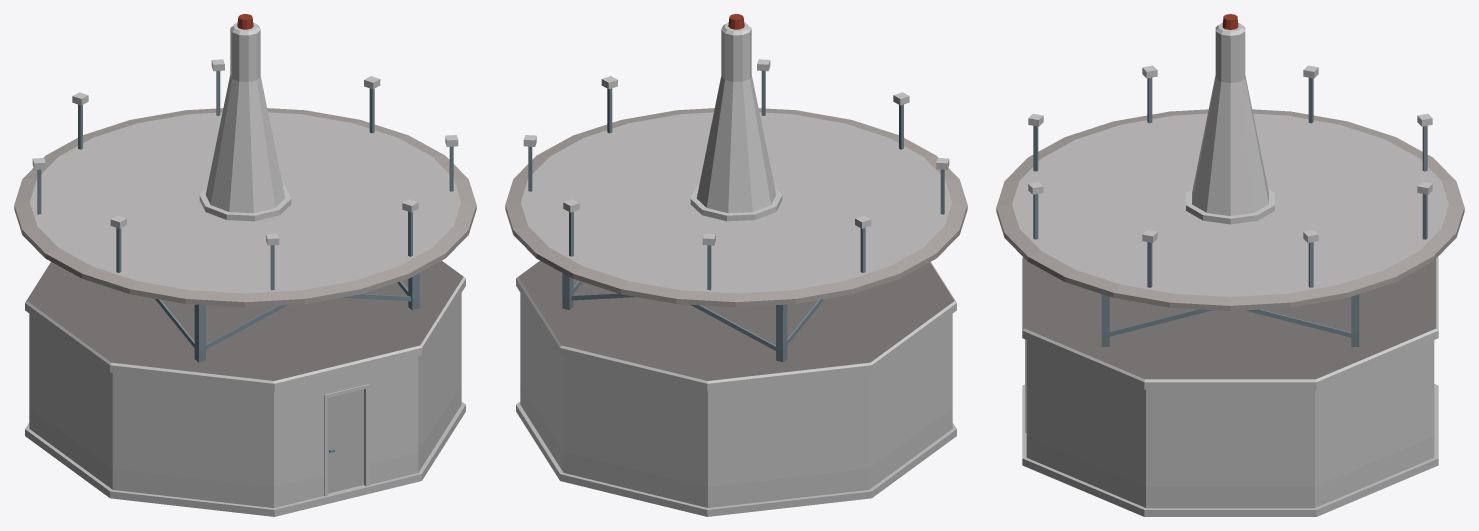
File: vor-navigation-beacon-9b32ff.glb
3 views of the same model, side by side, from view 1: azimuth 30°, elevation 25°; view 2: azimuth 150°, elevation 25°; view 3: azimuth 270°, elevation 25° (orthographic).
Visible parts, largest first — view 1: vor-beacon-body; view 2: vor-beacon-body; view 3: vor-beacon-body.
Part boxes in pixels (left/top/right/bottom): vor-beacon-body: left=14, top=14, right=476, bottom=516; vor-beacon-body: left=505, top=14, right=967, bottom=516; vor-beacon-body: left=996, top=14, right=1464, bottom=516.
Bounding box in the file's own units: 9 × 8.74 × 9.
